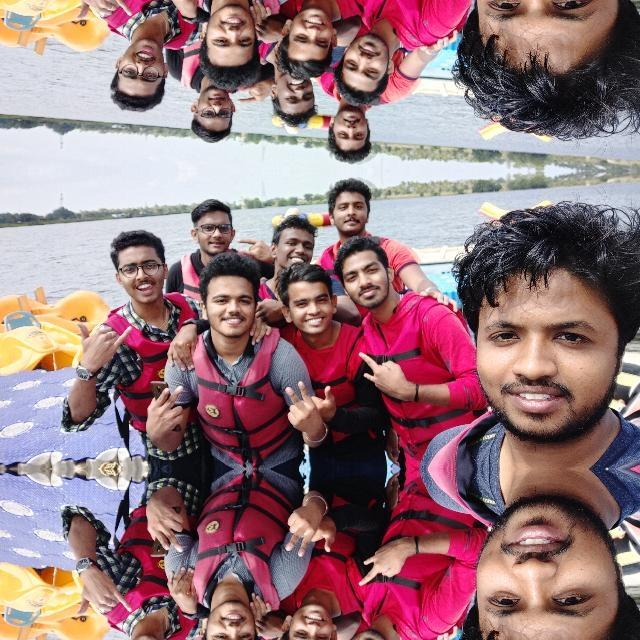person: (448, 202, 640, 468), (448, 468, 640, 640), (174, 248, 314, 468), (57, 218, 187, 426), (448, 0, 640, 138), (174, 468, 313, 640), (342, 252, 466, 438), (342, 498, 466, 640), (57, 510, 187, 640), (57, 0, 187, 122), (174, 0, 313, 91), (278, 257, 348, 428), (342, 0, 466, 88), (278, 507, 347, 640), (278, 0, 347, 82), (172, 197, 236, 261), (172, 79, 236, 143), (326, 181, 380, 243), (326, 97, 380, 159)
